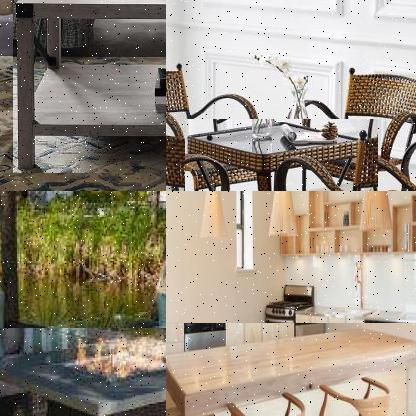table: (11, 0, 165, 175), (166, 323, 415, 415), (0, 328, 165, 415), (183, 119, 378, 190)
